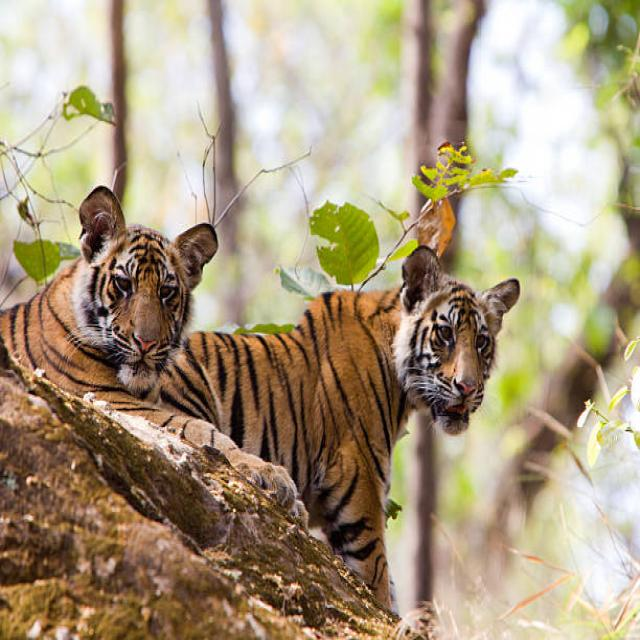not_pig: (189, 242, 524, 622), (0, 182, 219, 416)
